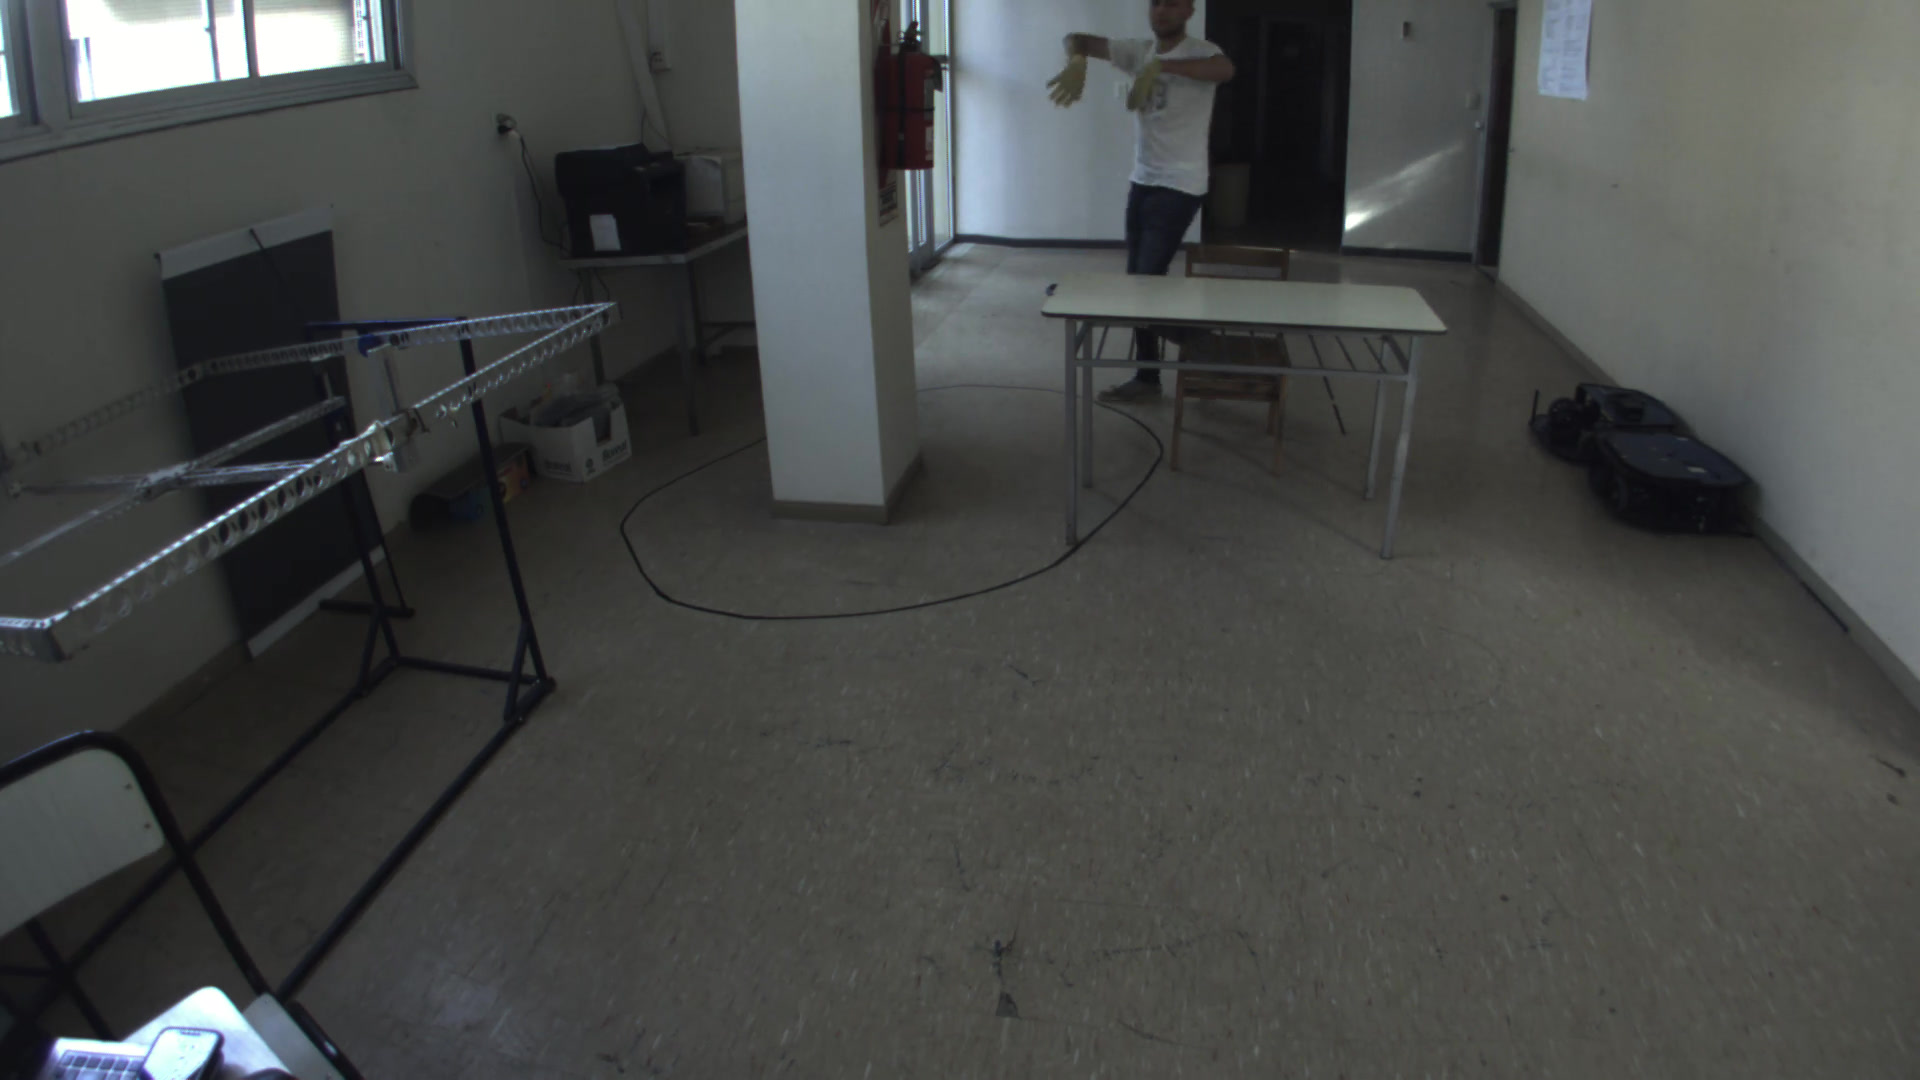hand: (1129, 51, 1171, 117), (1047, 55, 1092, 113)
